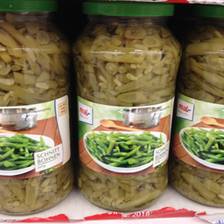beans: (74, 3, 181, 212), (1, 1, 71, 211), (185, 2, 224, 211)
